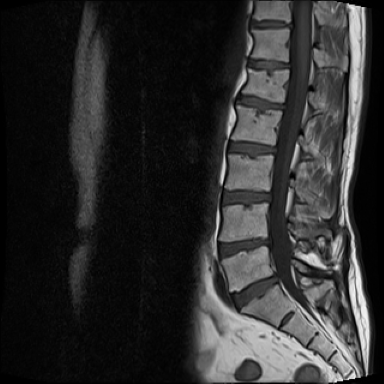Lumbar Disc Bulge (LDB): (225, 272, 282, 313), (212, 231, 277, 264)
Normal IVD: (219, 134, 280, 160), (231, 89, 290, 115), (216, 183, 274, 208), (243, 54, 291, 73)
Spinal Stenosis (SS): (260, 231, 276, 254), (285, 16, 297, 31)
Thoracic Disc Bulge (TDB): (245, 20, 294, 33)
